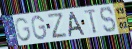A: (68, 10, 86, 37)
G: (14, 17, 32, 43), (31, 14, 48, 41)
S: (100, 6, 118, 34)
T: (84, 8, 99, 35)
Z: (47, 11, 69, 40)
